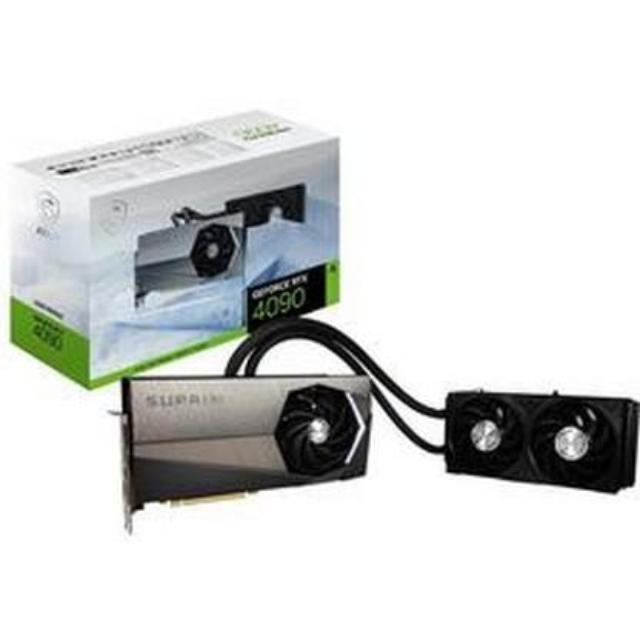GPU: (117, 353, 640, 524)
